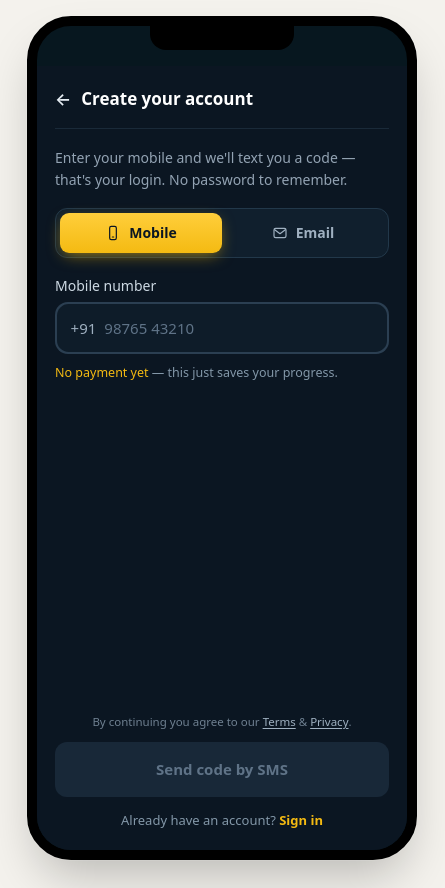
Test: CreateAccount › a failed send surfaces the error on the contact step (no silent dead-tap)
Step 1. Type "9876543210" into the field with placeholder "98765 43210" → [226, 328], box x1=104 y1=317 x2=347 y2=339
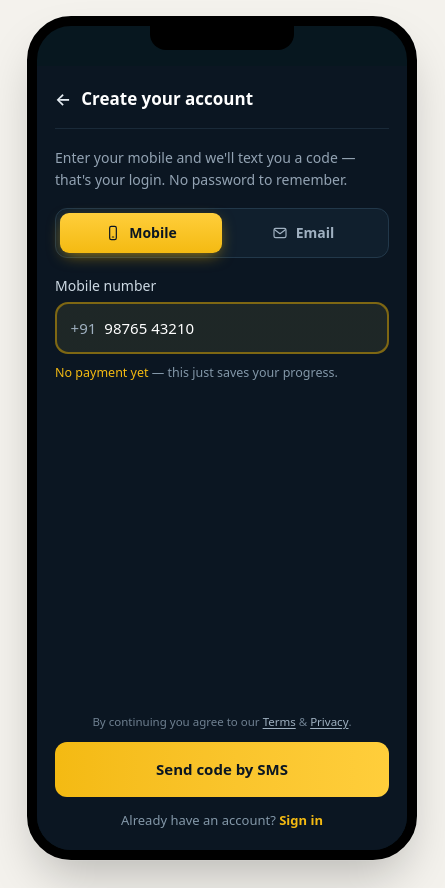
Step 2. Click the button "Send code by SMS" → [222, 769], box x1=55 y1=742 x2=389 y2=796
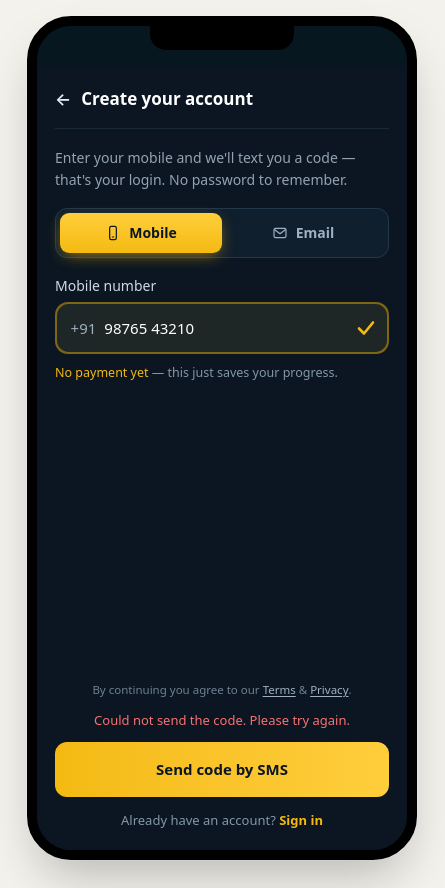
Check: the message shows "Could not send the code", box x1=94 y1=710 x2=350 y2=728
